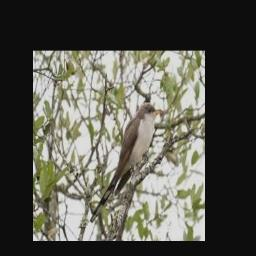Cuckoo: (89, 102, 161, 225)
